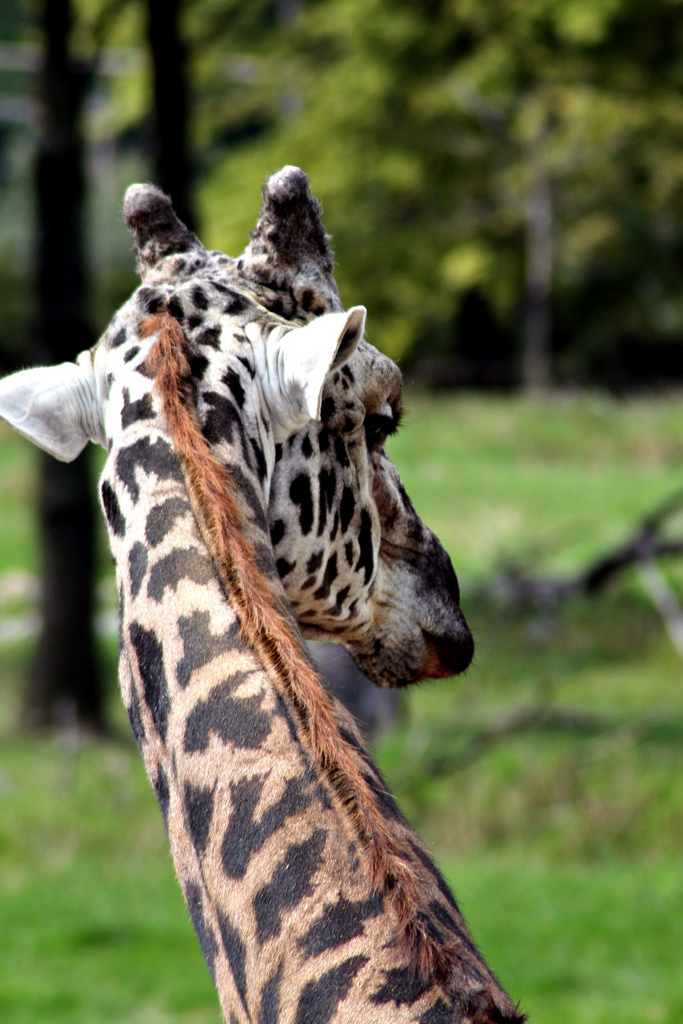giraffe: (42, 171, 537, 986)
